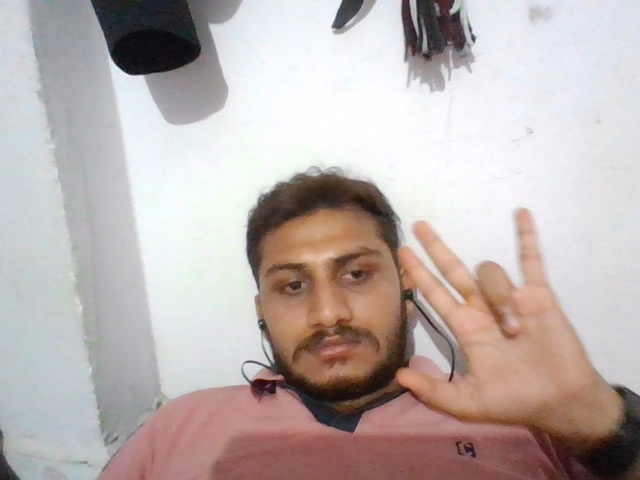ILoveYou: (386, 198, 589, 451)
